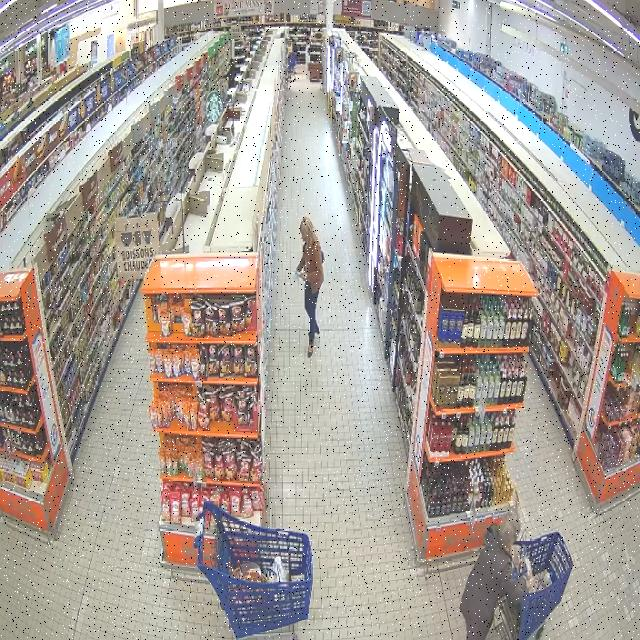article: (293, 271, 301, 277)
hands: (299, 273, 307, 280)
person: (460, 506, 531, 639), (296, 217, 323, 357)
